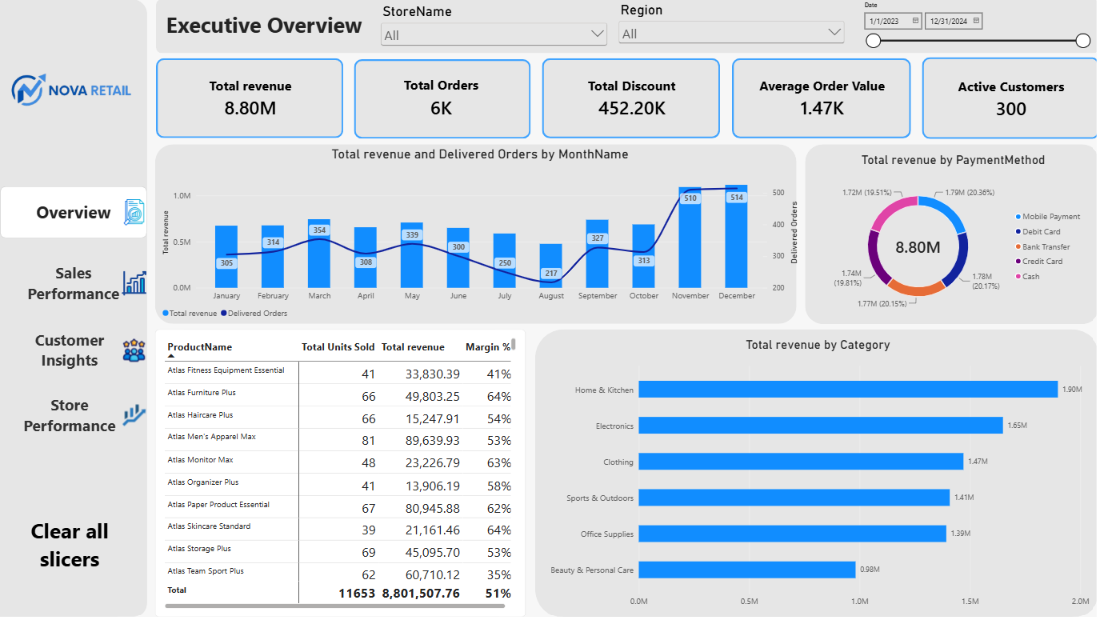

The dashboard page shown, as its layout file describes it:
{"tool":"powerbi","page":{"name":"Overview","canvas":[1920,1080],"ordinal":0},"visuals":[{"type":"shape","box":[0,0,204.5,1079],"z":0,"group":"g1"},{"type":"group","id":"g1","title":"Group 3","box":[0,0,256.7,1081],"z":0},{"type":"shape","box":[1609.1,101.4,311.5,142.7],"z":0,"group":"g5"},{"type":"shape","box":[272.1,102.9,326.7,139.3],"z":0,"group":"g3"},{"type":"shape","box":[945.8,103.1,310.6,139.6],"z":0,"group":"g4"},{"type":"shape","box":[1277.1,103.1,312.2,139.6],"z":0,"group":"g2"},{"type":"shape","box":[617.8,103.8,308.4,138.6],"z":0,"group":"g6"},{"type":"shape","box":[270.2,252.2,1119,313.4],"z":0,"group":"g8"},{"type":"shape","box":[1404.9,252.2,515.1,313.8],"z":0,"group":"g7"},{"type":"shape","box":[270.2,576.4,643.1,504.3],"z":0,"group":"g10"},{"type":"shape","box":[933,576.4,987,504.3],"z":0,"group":"g9"},{"type":"shape","box":[0,0,256.7,1079],"z":500,"group":"g1"},{"type":"cardVisual","fields":{"Data":["_Measures.Totale revenue"]},"box":[273.8,102.9,326.4,139.6],"z":1000,"group":"g3"},{"type":"cardVisual","fields":{"Data":["_Measures.Total Orders"]},"box":[614,102.9,311.6,138.5],"z":1000,"group":"g6"},{"type":"cardVisual","fields":{"Data":["_Measures.Total Discount"]},"box":[947.4,103.1,310.2,139.9],"z":1000,"group":"g4"},{"type":"group","id":"g2","title":"Group 1","box":[1277.1,103.1,312.2,139.5],"z":1000},{"type":"cardVisual","fields":{"Data":["_Measures.Average Order Value"]},"box":[1278.7,103.1,311.9,139.9],"z":1000,"group":"g2"},{"type":"cardVisual","fields":{"Data":["_Measures.Active Customers"]},"box":[1608.5,103.4,311.2,143.4],"z":1000,"group":"g5"},{"type":"donutChart","fields":{"Category":["Sales.PaymentMethod"],"Y":["_Measures.Total revenue"]},"box":[1416.9,252.8,493,314.6],"z":1000,"group":"g7"},{"type":"lineStackedColumnComboChart","fields":{"Category":["Calendar.MonthName"],"Y":["_Measures.Total revenue"],"Y2":["_Measures.Delivered Orders"]},"box":[282.5,255,1109.9,305],"z":1000,"group":"g8"},{"type":"pivotTable","fields":{"Rows":["Products.ProductName"],"Values":["_Measures.Total Units Sold","_Measures.Total revenue","_Measures.Margin %"]},"box":[270.2,576.4,646.6,504.3],"z":1000,"group":"g10"},{"type":"barChart","fields":{"Category":["Products.Category"],"Y":["_Measures.Total revenue"]},"box":[933,576.4,987,504.3],"z":1000,"group":"g9"},{"type":"group","id":"g3","title":"Group 1","box":[272.1,102.9,327.9,139.5],"z":2000},{"type":"group","id":"g4","title":"Group 1","box":[945.8,103.1,312.2,139.5],"z":3000},{"type":"group","id":"g5","title":"Group 1","box":[1608.5,101.4,312.2,144.8],"z":4000},{"type":"group","id":"g6","title":"Group 1","box":[614,102.9,312.2,139.5],"z":5000},{"type":"group","id":"g7","title":"Group 2","box":[1404.9,252.2,515.1,315.2],"z":6000},{"type":"group","id":"g8","title":"Group 3","box":[270.2,252.2,1118.5,313.4],"z":7000},{"type":"group","id":"g9","title":"Group 4","box":[933,576.4,987,504.3],"z":8000},{"type":"group","id":"g10","title":"Group 5","box":[270.2,576.4,646.6,504.3],"z":9000},{"type":"actionButton","box":[0,326.2,256.4,90.7],"z":11000},{"type":"shape","box":[272.1,0,1646.5,94.2],"z":12000},{"type":"slicer","fields":{"Values":["Calendar.Date"]},"box":[1500.3,3.6,405.3,93.7],"z":13000},{"type":"slicer","fields":{"Values":["Stores.Region"]},"box":[1075.3,3.6,403.5,93.7],"z":14000},{"type":"slicer","fields":{"Values":["Stores.StoreName"]},"box":[659.2,7.2,405.3,86.5],"z":15000},{"type":"actionButton","box":[0,450,256.4,90.7],"z":16000},{"type":"actionButton","box":[0,566.9,242.6,90.7],"z":17000},{"type":"actionButton","box":[0,680.2,242.6,90.7],"z":18000},{"type":"textbox","box":[272.1,19.2,376.7,62.8],"z":19000},{"type":"image","box":[211,702.9,45.3,45.3],"z":20000},{"type":"image","box":[204.1,348.8,59.3,45.3],"z":21000},{"type":"image","box":[211,589.5,45.3,45.3],"z":22000},{"type":"image","box":[211,472.7,45.3,45.3],"z":23000},{"type":"actionButton","box":[4.5,874.2,232.7,153.6],"z":24000},{"type":"image","box":[0,46.8,248.6,221.5],"z":24001}]}

Visuals, with their boxes on the page's 1920x1080 design canvas (x1, y1, x2, y2). These are canvas units, not pixel positions in the 1097x617 screenshot, which may show the page scaled, cropped or inside an application window:
shape: x1=0 y1=0 x2=204 y2=1079
"Group 3" group: x1=0 y1=0 x2=257 y2=1081
shape: x1=1609 y1=101 x2=1921 y2=244
shape: x1=272 y1=103 x2=599 y2=242
shape: x1=946 y1=103 x2=1256 y2=243
shape: x1=1277 y1=103 x2=1589 y2=243
shape: x1=618 y1=104 x2=926 y2=242
shape: x1=270 y1=252 x2=1389 y2=566
shape: x1=1405 y1=252 x2=1920 y2=566
shape: x1=270 y1=576 x2=913 y2=1081
shape: x1=933 y1=576 x2=1920 y2=1081
shape: x1=0 y1=0 x2=257 y2=1079
cardVisual - _Measures.Totale revenue: x1=274 y1=103 x2=600 y2=242
cardVisual - _Measures.Total Orders: x1=614 y1=103 x2=926 y2=241
cardVisual - _Measures.Total Discount: x1=947 y1=103 x2=1258 y2=243
"Group 1" group: x1=1277 y1=103 x2=1589 y2=243
cardVisual - _Measures.Average Order Value: x1=1279 y1=103 x2=1591 y2=243
cardVisual - _Measures.Active Customers: x1=1608 y1=103 x2=1920 y2=247
donutChart - Sales.PaymentMethod x _Measures.Total revenue: x1=1417 y1=253 x2=1910 y2=567
lineStackedColumnComboChart - Calendar.MonthName x _Measures.Total revenue: x1=282 y1=255 x2=1392 y2=560
pivotTable - Products.ProductName x _Measures.Total Units Sold: x1=270 y1=576 x2=917 y2=1081
barChart - Products.Category x _Measures.Total revenue: x1=933 y1=576 x2=1920 y2=1081
"Group 1" group: x1=272 y1=103 x2=600 y2=242
"Group 1" group: x1=946 y1=103 x2=1258 y2=243
"Group 1" group: x1=1608 y1=101 x2=1921 y2=246
"Group 1" group: x1=614 y1=103 x2=926 y2=242
"Group 2" group: x1=1405 y1=252 x2=1920 y2=567
"Group 3" group: x1=270 y1=252 x2=1389 y2=566
"Group 4" group: x1=933 y1=576 x2=1920 y2=1081
"Group 5" group: x1=270 y1=576 x2=917 y2=1081
actionButton: x1=0 y1=326 x2=256 y2=417
shape: x1=272 y1=0 x2=1919 y2=94
slicer - Calendar.Date: x1=1500 y1=4 x2=1906 y2=97
slicer - Stores.Region: x1=1075 y1=4 x2=1479 y2=97
slicer - Stores.StoreName: x1=659 y1=7 x2=1064 y2=94
actionButton: x1=0 y1=450 x2=256 y2=541
actionButton: x1=0 y1=567 x2=243 y2=658
actionButton: x1=0 y1=680 x2=243 y2=771
textbox: x1=272 y1=19 x2=649 y2=82
image: x1=211 y1=703 x2=256 y2=748
image: x1=204 y1=349 x2=263 y2=394
image: x1=211 y1=590 x2=256 y2=635
image: x1=211 y1=473 x2=256 y2=518
actionButton: x1=4 y1=874 x2=237 y2=1028
image: x1=0 y1=47 x2=249 y2=268
